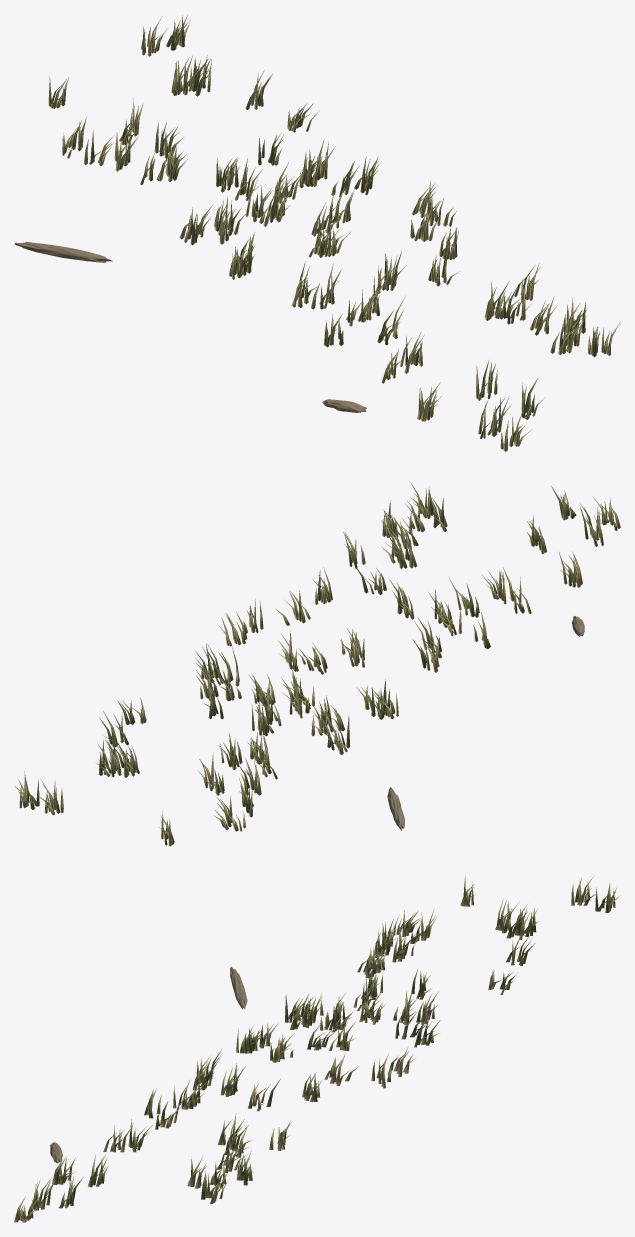
The model's file is beach-dunes.glb.
3 renders of one model, top to bottom at view 1: azimuth 30°, elevation 25°; view 2: azimuth 150°, elevation 25°; view 3: azimuth 330°, elevation 25°, orthographic. The views are drawn at different scales.
Visible parts, largest first — view 1: Tidal driftwood 0; view 2: no part large enough to name; view 3: no part large enough to name.
Part boxes in pixels (x1,y1,x2,y2): Tidal driftwood 0: (14, 242, 112, 262).
Bounding box in the file's own units: 8.37 × 2.29 × 23.09.
